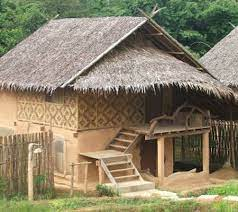Mud House: (4, 13, 227, 189)
